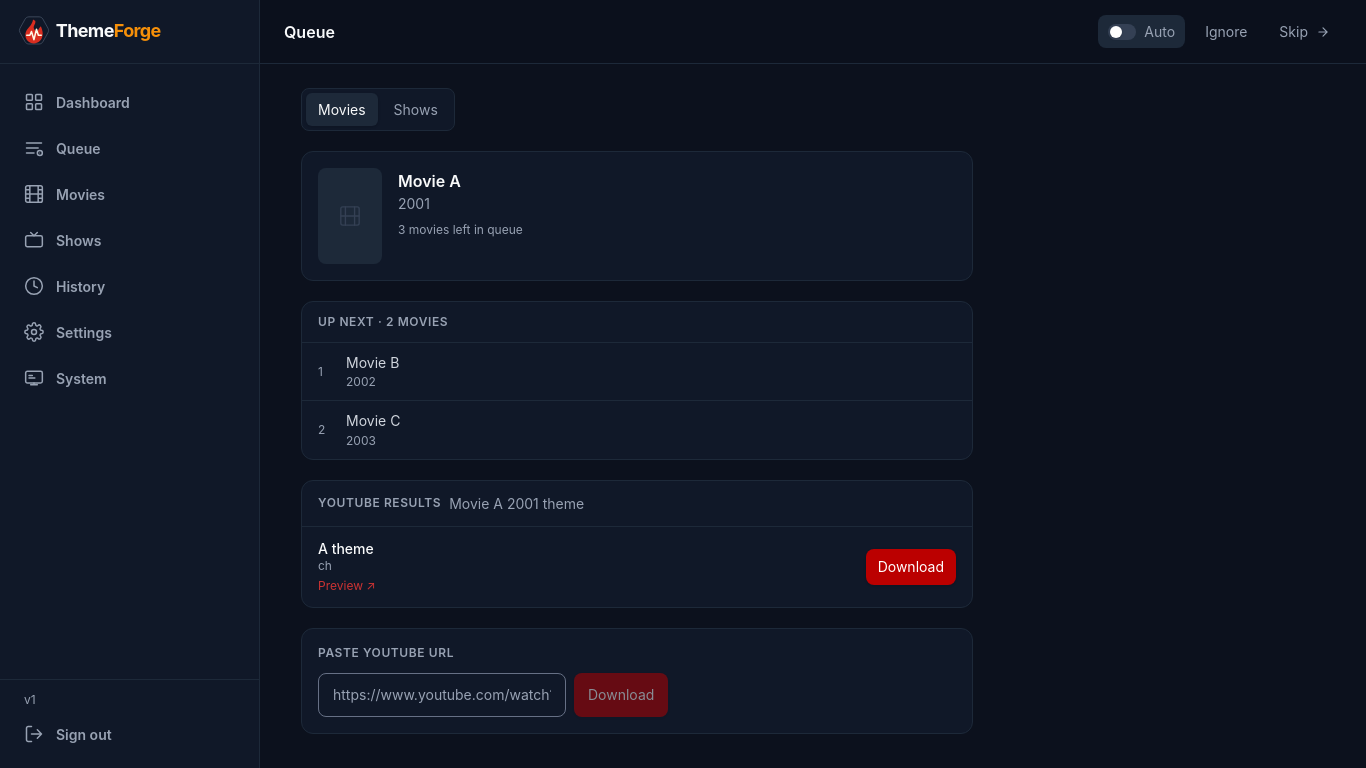
the download-status poll cannot skip a movie › does not advance twice when a status response outlives the poll interval
The image size is (1366, 768).
Click the button "Download" in the row of "Preview ↗" at (911, 567), box 866,549 -> 956,585
Wait 4000 ms
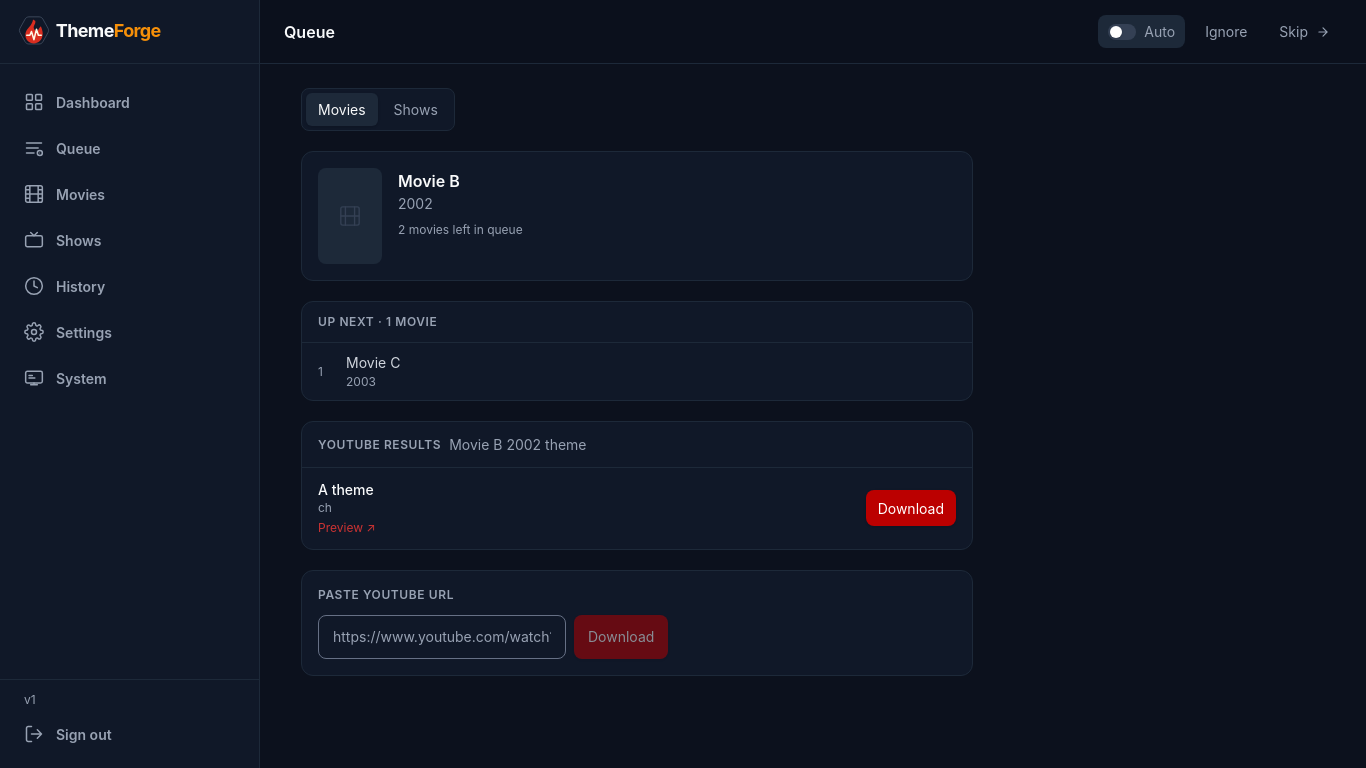
Now the text "2 movies left in queue" is shown, box 398,222 -> 523,237
